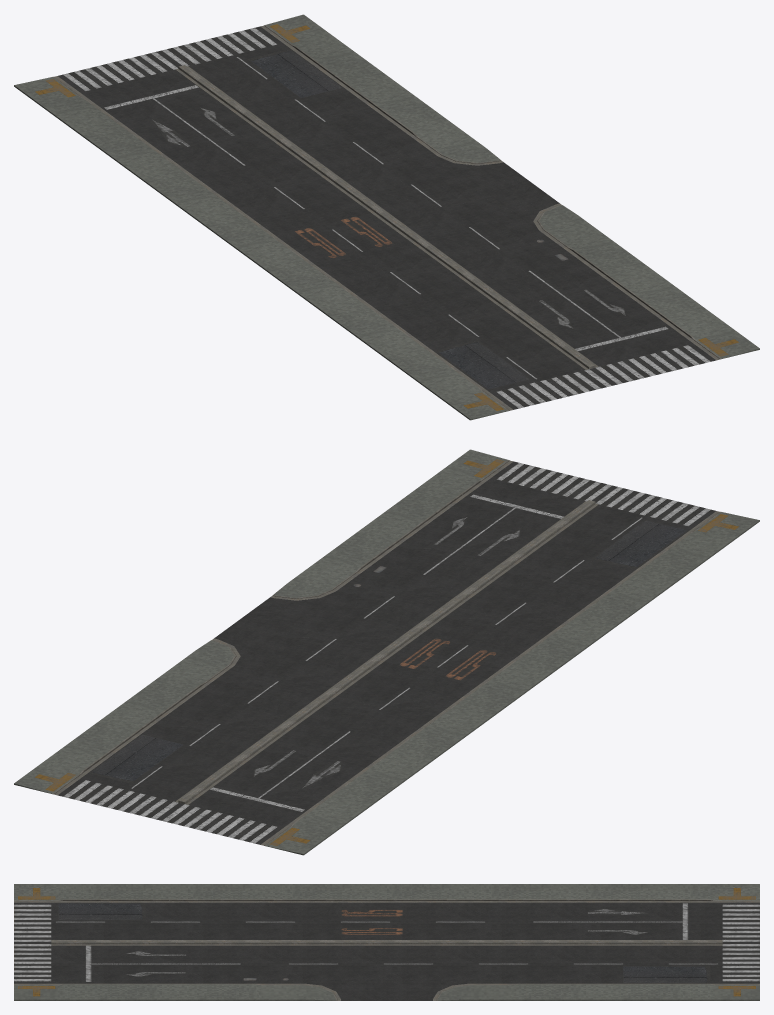
Rendered from jctlowRoad22mC_c.fbx.
The picture shows the model from 3 angles, top to bottom: view 1: azimuth 30°, elevation 25°; view 2: azimuth 150°, elevation 25°; view 3: azimuth 270°, elevation 25°; orthographic projection. The views are drawn at different scales.
Parts seen in each view (by area): view 1: jctlowRoad22mC_c; view 2: jctlowRoad22mC_c; view 3: jctlowRoad22mC_c.
Boxes of the visible parts, x1,y1,x2,y2 form: jctlowRoad22mC_c: [14, 14, 759, 420]; jctlowRoad22mC_c: [14, 449, 759, 855]; jctlowRoad22mC_c: [14, 884, 759, 1000].
Bounding box in the file's own units: 2200 × 15 × 6000.
4 materials, 4 textured.
